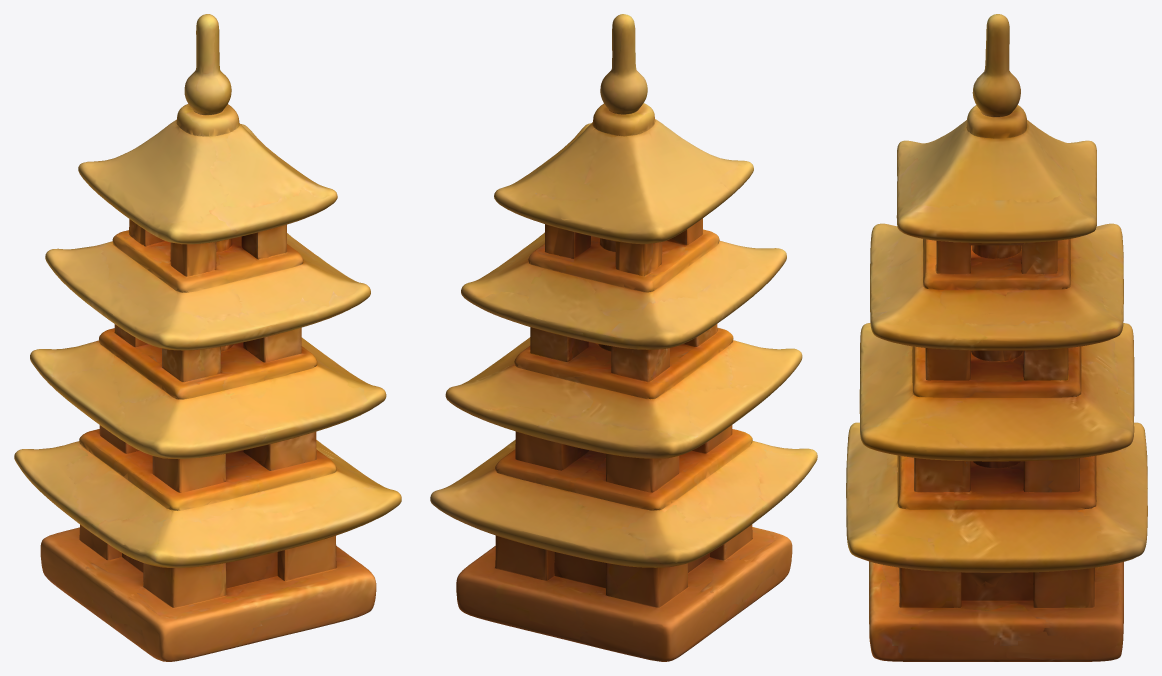
Rendered from pagoda_pbr.glb.
3 views of the same model, side by side, from view 1: azimuth 30°, elevation 25°; view 2: azimuth 150°, elevation 25°; view 3: azimuth 270°, elevation 25° (orthographic). The views are drawn at different scales.
Parts seen in each view (by area): view 1: model; view 2: model; view 3: model.
Boxes of the visible parts, x1,y1,x2,y2 form: model: (14, 14, 401, 661); model: (430, 14, 817, 661); model: (846, 14, 1147, 661).
Bounding box in the file's own units: 0.7888 × 1.72 × 0.7886.
Materials: 1 (1 with a texture image).
